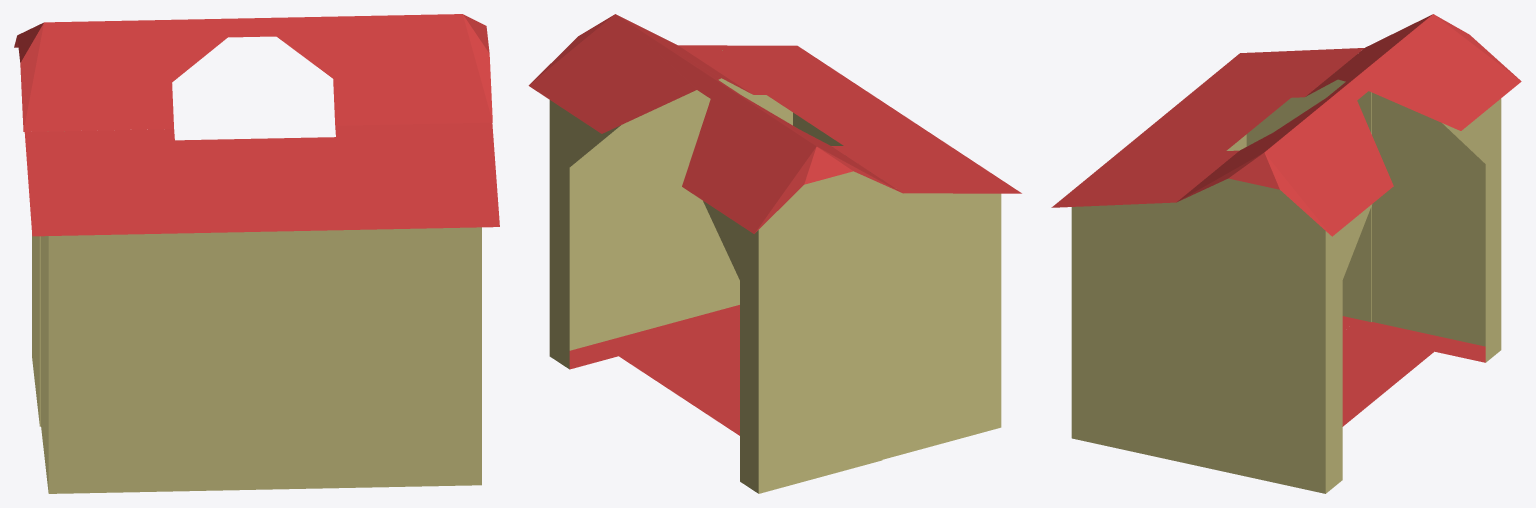
3 renders of one model, left to right at view 1: azimuth 30°, elevation 25°; view 2: azimuth 150°, elevation 25°; view 3: azimuth 270°, elevation 25°, orthographic. The views are drawn at different scales.
Visible parts, largest first — view 1: group_9, group_7, group_3, group_5, group_8; view 2: group_5, group_9, group_3, group_7, group_6, group_10, group_4; view 3: group_5, group_9, group_3, group_7, group_6, group_4.
Boxes of the visible parts, bbox=[...] form: group_9: bbox=[42, 227, 481, 493]; group_7: bbox=[24, 122, 499, 236]; group_3: bbox=[14, 14, 492, 131]; group_5: bbox=[32, 131, 64, 432]; group_8: bbox=[25, 132, 496, 235]; group_5: bbox=[549, 95, 894, 493]; group_9: bbox=[686, 50, 1001, 456]; group_3: bbox=[528, 14, 901, 233]; group_7: bbox=[678, 45, 1021, 193]; group_6: bbox=[569, 319, 739, 435]; group_10: bbox=[686, 305, 739, 354]; group_4: bbox=[554, 40, 756, 232]; group_5: bbox=[1183, 91, 1501, 493]; group_9: bbox=[1071, 79, 1357, 462]; group_3: bbox=[1176, 14, 1521, 236]; group_7: bbox=[1051, 48, 1364, 207]; group_6: bbox=[1342, 319, 1485, 426]; group_4: bbox=[1181, 74, 1519, 214].
Size of the model in its own units: 25.37 by 23.34 by 17.77.
